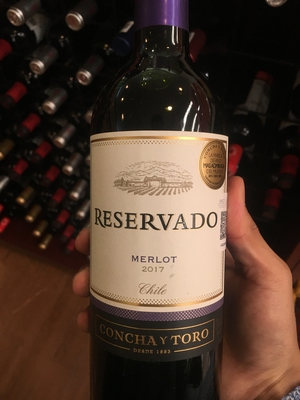reservado merlot: (75, 11, 253, 400)
